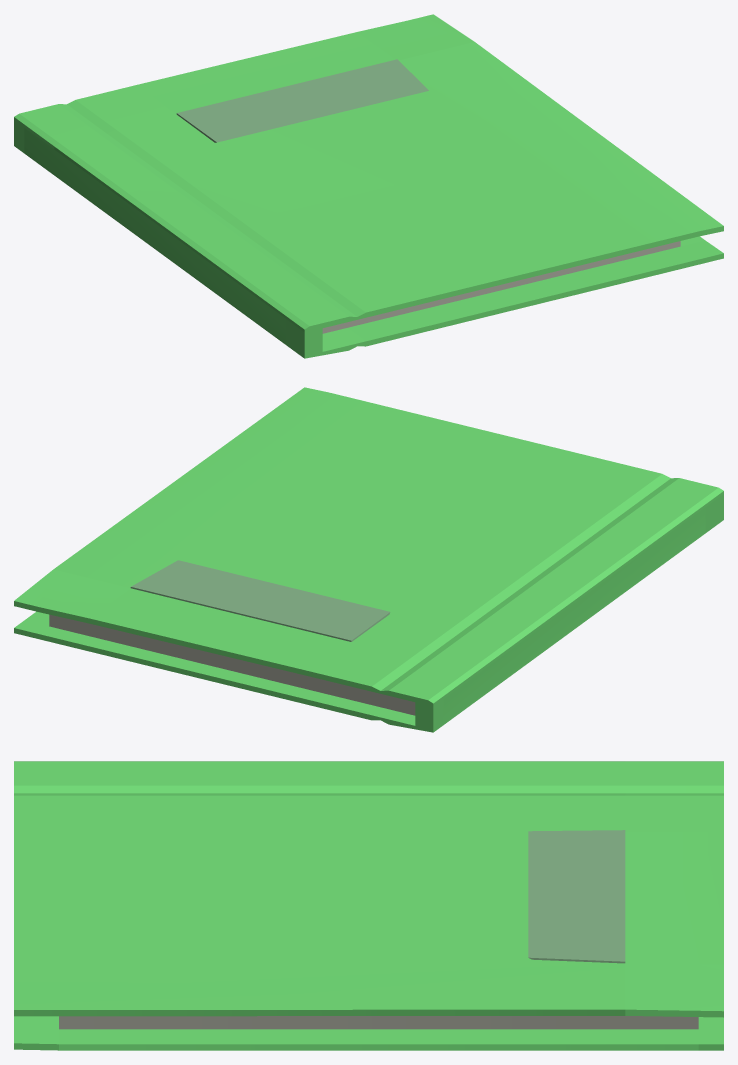
Rendered from book.fbx.
The picture shows the model from 3 angles, top to bottom: view 1: azimuth 30°, elevation 25°; view 2: azimuth 150°, elevation 25°; view 3: azimuth 270°, elevation 25°; orthographic projection. The views are drawn at different scales.
Parts seen in each view (by area): view 1: book; view 2: book; view 3: book.
Boxes of the visible parts, x1,y1,x2,y2 form: book: (14, 14, 723, 358); book: (14, 387, 723, 732); book: (14, 761, 723, 1050).
Size of the model in its own units: 21.41 by 1.72 by 25.63.
